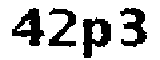2: (47, 2, 80, 53)
3: (116, 5, 148, 51)
4: (11, 7, 46, 50)
p: (81, 14, 114, 60)
